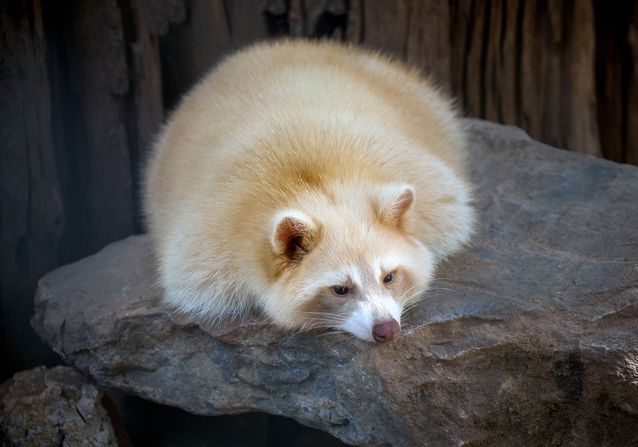raccoon: (121, 25, 504, 358)
